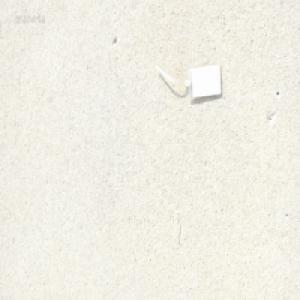LuggageTag: (153, 61, 223, 102)
